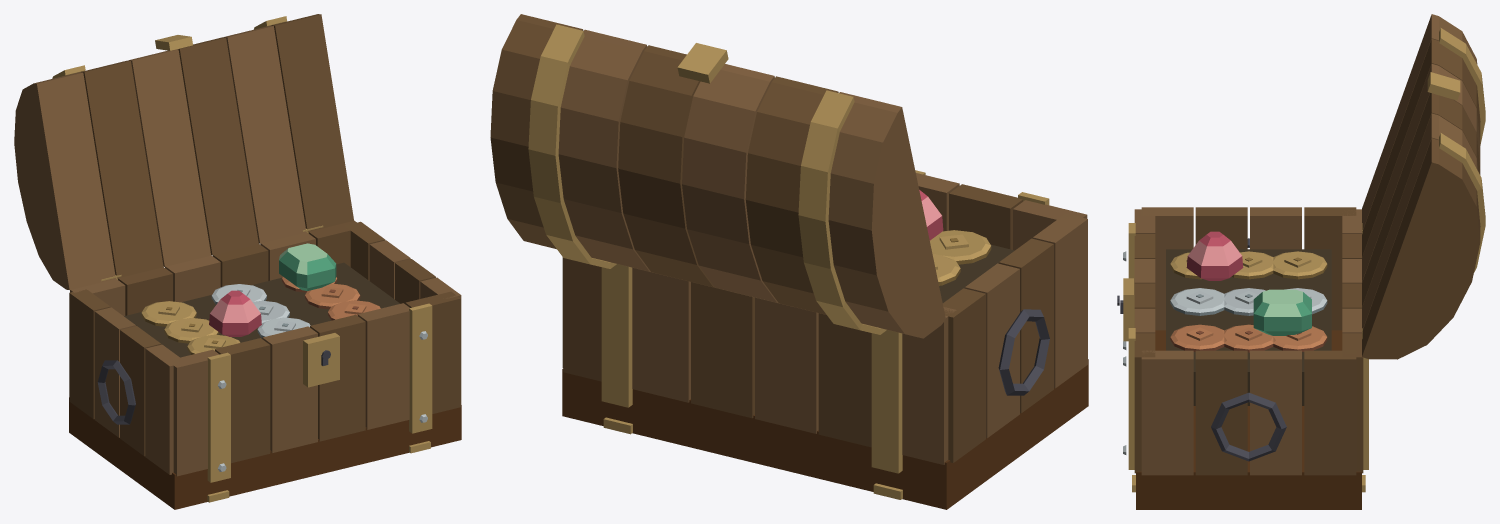
The model's file is treasure_chest_open.glb.
The picture shows the model from 3 angles, left to right: view 1: azimuth 30°, elevation 25°; view 2: azimuth 150°, elevation 25°; view 3: azimuth 270°, elevation 25°; orthographic projection. The views are drawn at different scales.
Parts seen in each view (by area): view 1: treasure_chest_open; view 2: treasure_chest_open; view 3: treasure_chest_open.
Boxes of the visible parts, x1,y1,x2,y2 form: treasure_chest_open: [14, 14, 461, 509]; treasure_chest_open: [490, 14, 1088, 509]; treasure_chest_open: [1117, 14, 1485, 509].
Size of the model in its own units: 0.998 by 1.05 by 0.9773.
